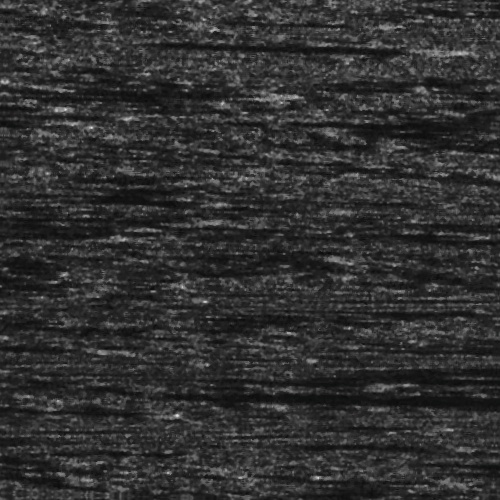object: (149, 91, 254, 106), (371, 41, 476, 50), (51, 116, 156, 123), (67, 234, 140, 243), (51, 347, 124, 354), (365, 377, 428, 384), (409, 437, 492, 442), (348, 15, 379, 26), (246, 88, 309, 93), (89, 227, 152, 232), (321, 203, 374, 208), (127, 412, 168, 417)
shadow: (248, 387, 500, 400), (251, 393, 500, 404), (48, 91, 201, 106), (189, 41, 423, 50), (220, 15, 363, 26), (394, 350, 500, 363), (321, 361, 500, 368), (30, 88, 277, 93), (0, 234, 103, 243), (335, 116, 500, 121), (297, 437, 450, 442), (0, 412, 147, 417), (0, 116, 103, 123), (0, 347, 87, 354), (0, 227, 120, 232), (385, 340, 500, 345), (241, 203, 347, 208), (345, 377, 396, 384), (431, 453, 500, 458), (440, 369, 500, 374), (454, 462, 500, 467)
